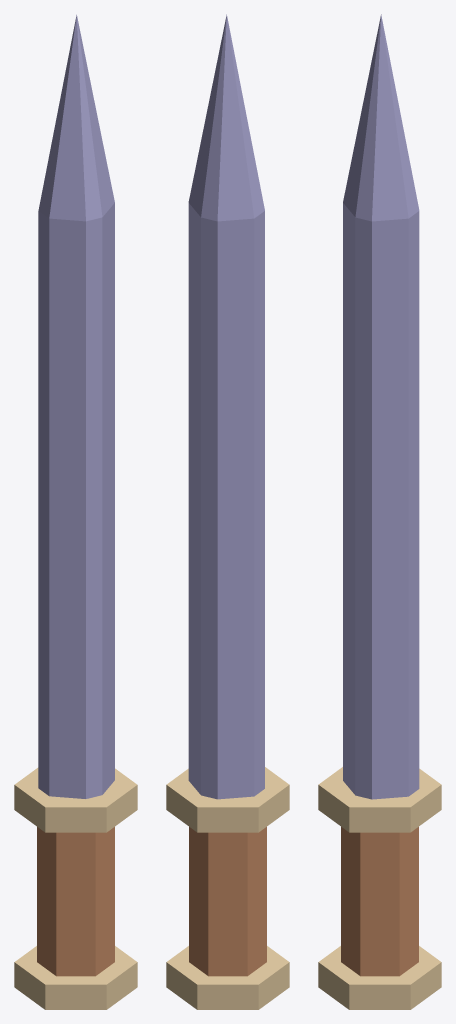
File: HeavansGaurd.fbx
The picture shows the model from 3 angles, left to right: view 1: azimuth 30°, elevation 25°; view 2: azimuth 150°, elevation 25°; view 3: azimuth 330°, elevation 25°; orthographic projection.
Visible parts, largest first — view 1: mergedBlocks; view 2: mergedBlocks; view 3: mergedBlocks.
Part boxes in pixels (<box>): mergedBlocks: <box>14,14,137,1009</box>; mergedBlocks: <box>166,14,289,1009</box>; mergedBlocks: <box>318,14,441,1009</box>.
Bounding box in the file's own units: 1.91 × 19.2 × 2.2.
